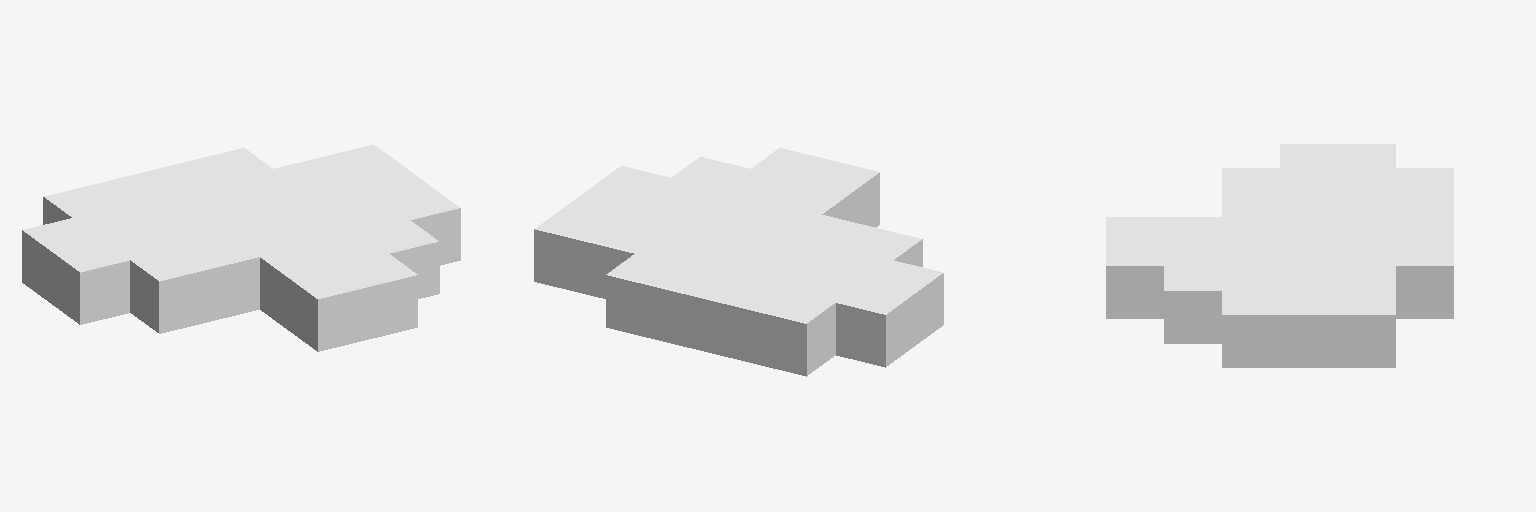
Rendered from Steak.obj.
The picture shows the model from 3 angles: view 1: azimuth 30°, elevation 25°; view 2: azimuth 150°, elevation 25°; view 3: azimuth 270°, elevation 25°; orthographic projection.
Visible parts, largest first — view 1: Steak; view 2: Steak; view 3: Steak.
Part boxes in pixels (left/top/right/bottom): Steak: left=22, top=144, right=460, bottom=351; Steak: left=534, top=148, right=943, bottom=376; Steak: left=1106, top=144, right=1453, bottom=367.
Size of the model in its own units: 7 by 1 by 6.